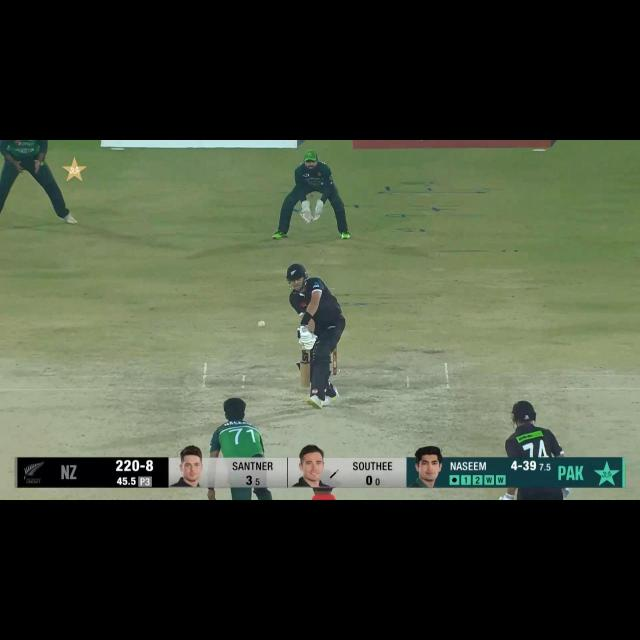bat: (298, 350, 312, 387)
toe: (299, 377, 312, 388)
